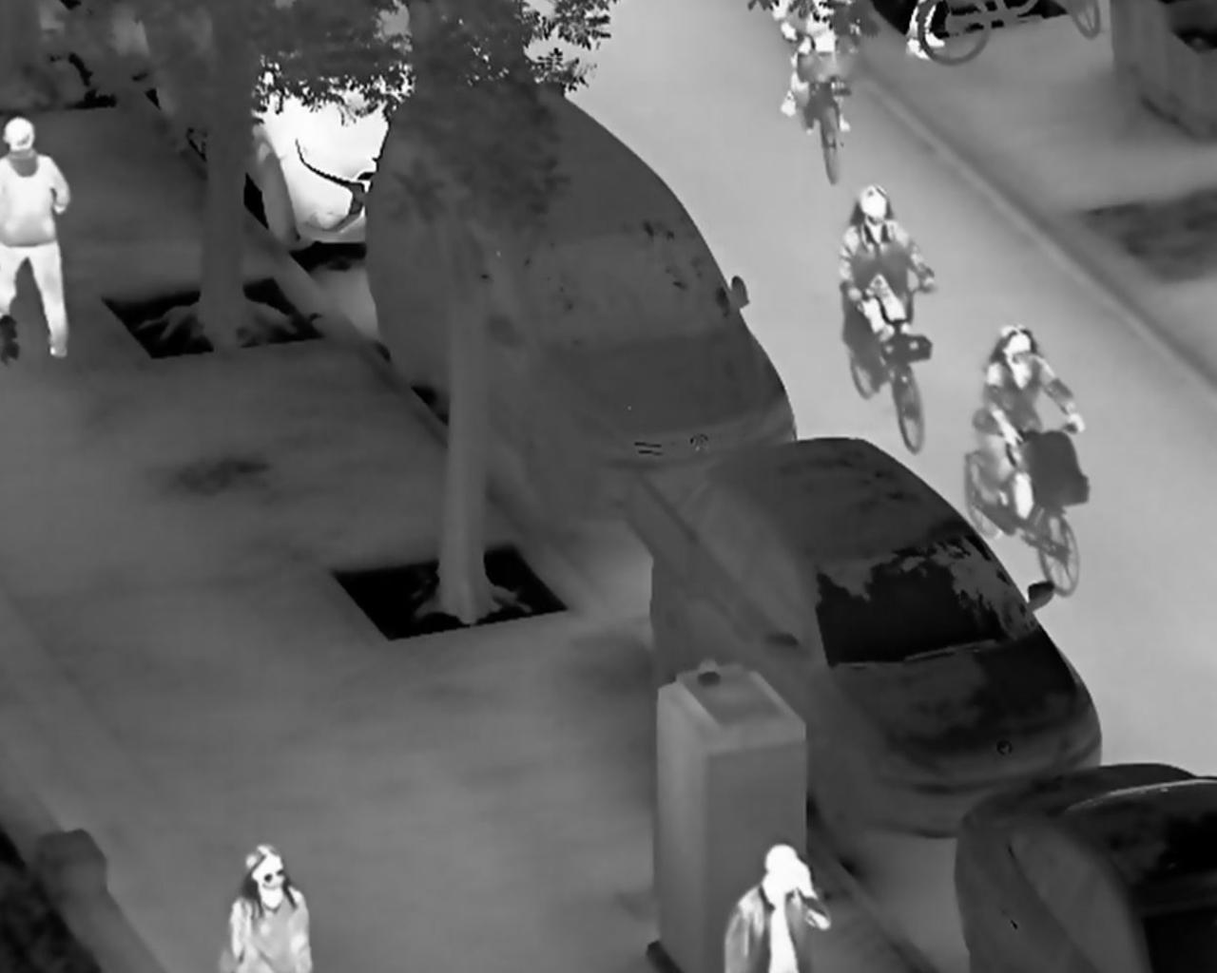person: (970, 321, 1088, 514), (2, 115, 76, 361), (837, 184, 939, 353), (718, 838, 834, 973), (218, 844, 313, 973)
